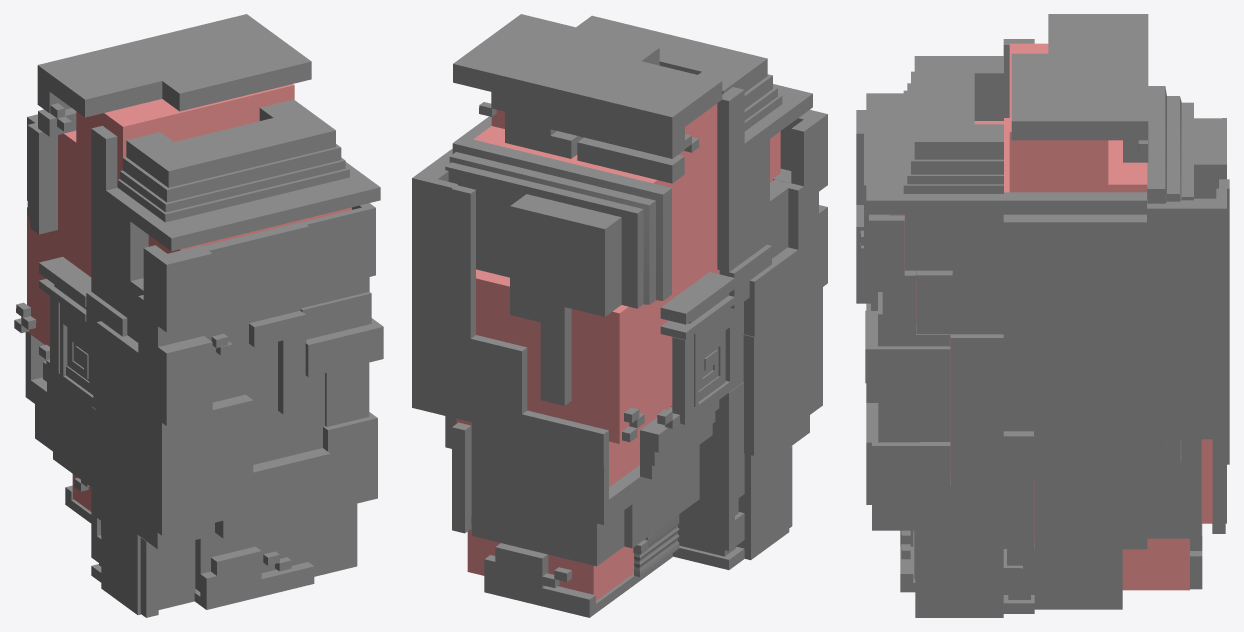
The model's file is JQ_BBLCrystal_Mesh.gltf.
3 renders of one model, left to right at view 1: azimuth 30°, elevation 25°; view 2: azimuth 150°, elevation 25°; view 3: azimuth 270°, elevation 25°, orthographic. The views are drawn at different scales.
Parts seen in each view (by area): view 1: JQ_BBLCrystal_Mesh; view 2: JQ_BBLCrystal_Mesh; view 3: JQ_BBLCrystal_Mesh.
Part boxes in pixels (x1,y1,x2,y2): JQ_BBLCrystal_Mesh: (14,14,383,617); JQ_BBLCrystal_Mesh: (412,14,827,617); JQ_BBLCrystal_Mesh: (856,14,1229,617).
Size of the model in its own units: 0.1459 by 0.2968 by 0.2022.
